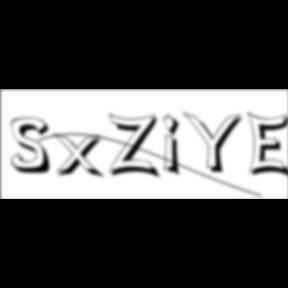S: (11, 117, 57, 176)
Y: (182, 110, 248, 176)
Z: (108, 112, 163, 181)
i: (163, 112, 187, 180)
x: (54, 132, 108, 181)
